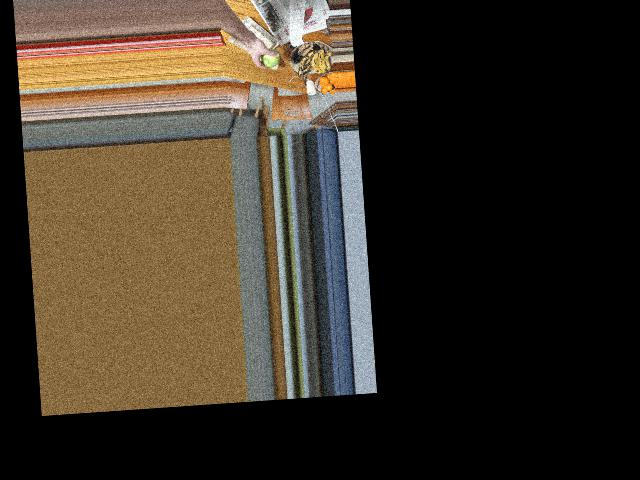apple: (256, 40, 280, 68)
